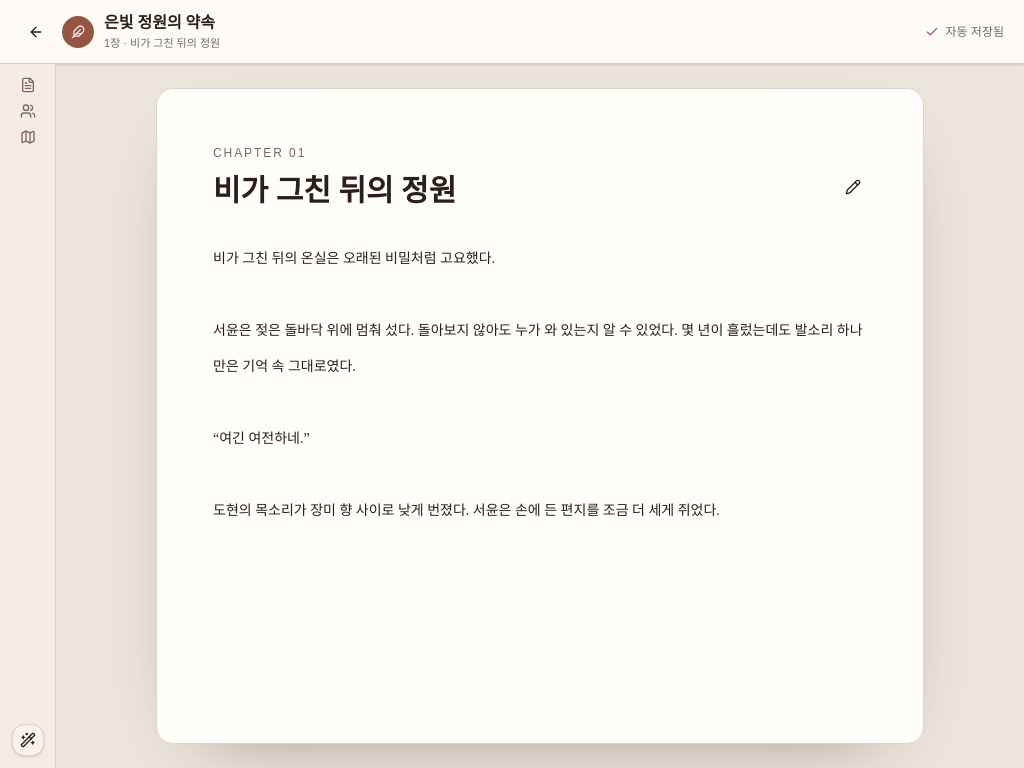
Test: WritingWorkspacePage › retains tab URL state after closing the selected contextual tab in a mobile sheet
The width and height of the screenshot is (1024, 768).
What coordinates should you click on to do the following:
click the tab named "인물 보기"
I would click on:
 (28, 111)
Its box is [18,102,36,120].
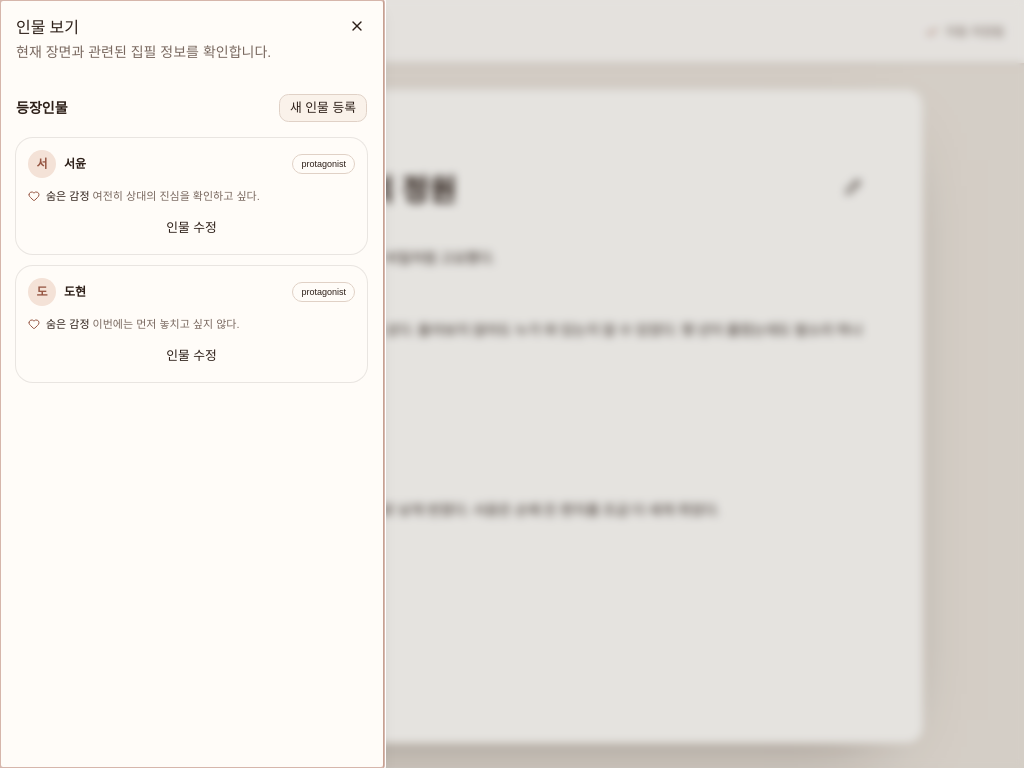
Expected: the dialog "인물 보기" shows "등장인물", [16,100,68,116]
Expected: the dialog "인물 보기" shows "서윤", [64,157,86,171]
What coordinates should you click on to do the following:
click the button named "닫기"
I would click on:
 (357, 26)
Its box is [343,12,371,40].
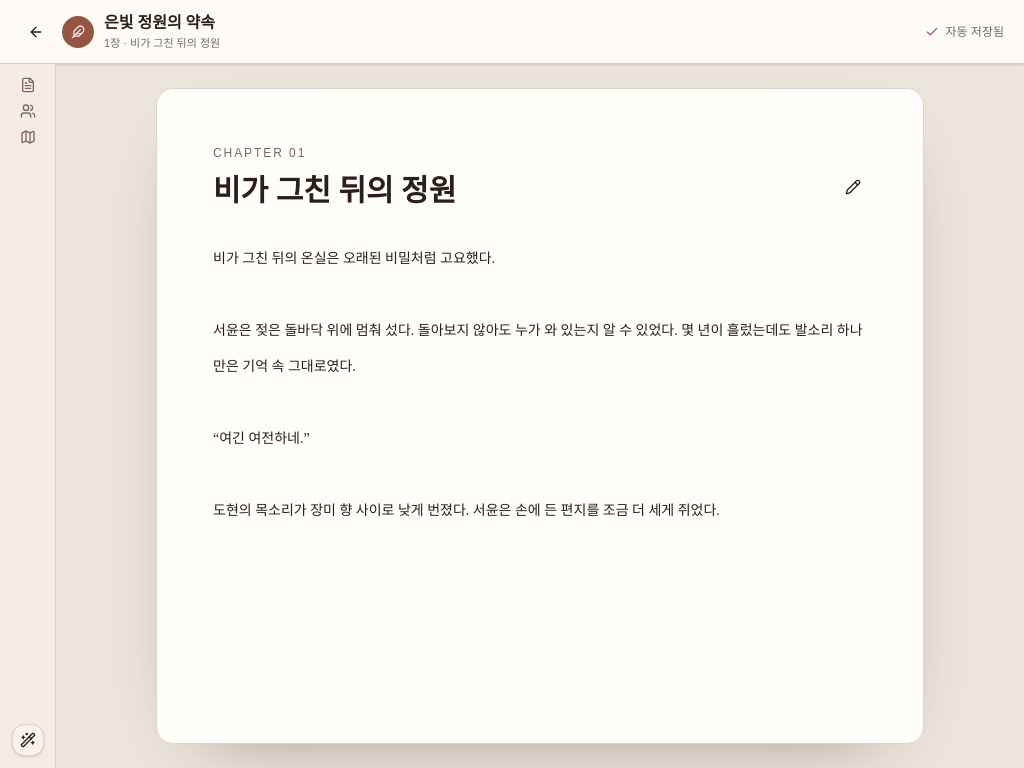
Expected: the text "인물 보기" is gone
